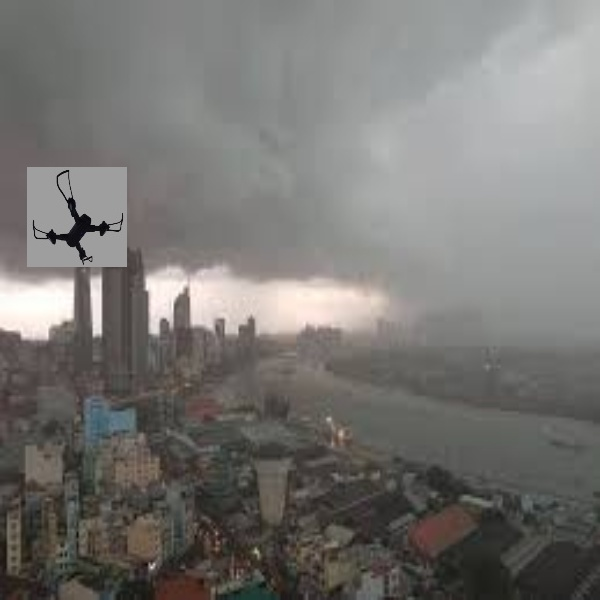drone: (29, 167, 129, 267)
